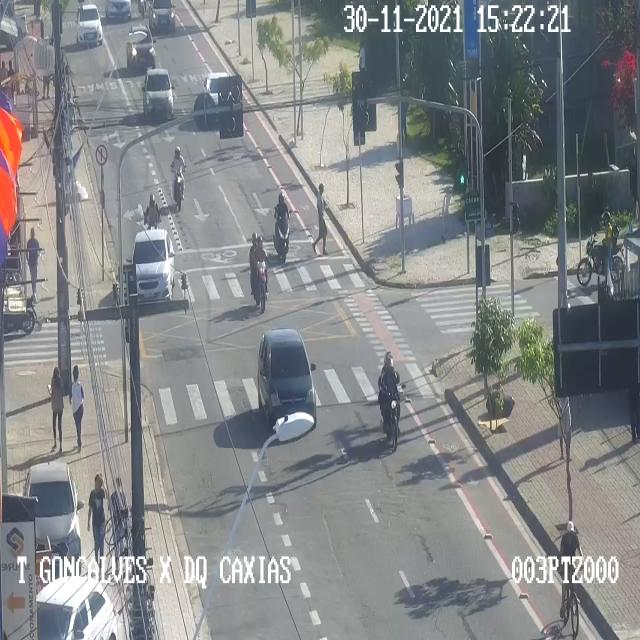Car: (258, 328, 318, 438), (24, 461, 84, 554), (37, 573, 115, 639), (130, 233, 174, 302), (141, 68, 176, 124), (206, 73, 238, 128), (126, 26, 155, 72), (76, 3, 104, 47), (150, 2, 179, 36), (104, 0, 134, 25)
Motorcycle: (577, 211, 626, 287), (378, 349, 404, 448), (248, 236, 269, 308), (273, 192, 291, 263), (171, 147, 185, 209), (144, 196, 162, 226), (136, 0, 148, 20)
